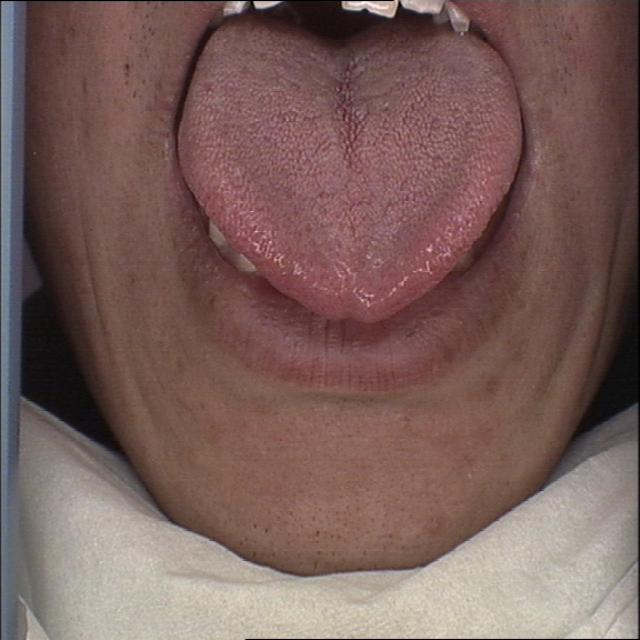tongue: (173, 24, 531, 331)
